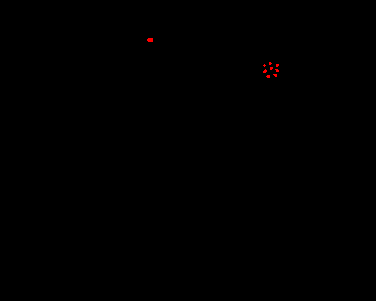Target: (147, 38, 153, 42), (263, 69, 267, 73), (275, 69, 279, 72), (273, 74, 277, 77), (266, 75, 270, 78), (269, 62, 272, 65), (263, 64, 266, 67), (276, 64, 279, 67), (270, 67, 273, 70)
